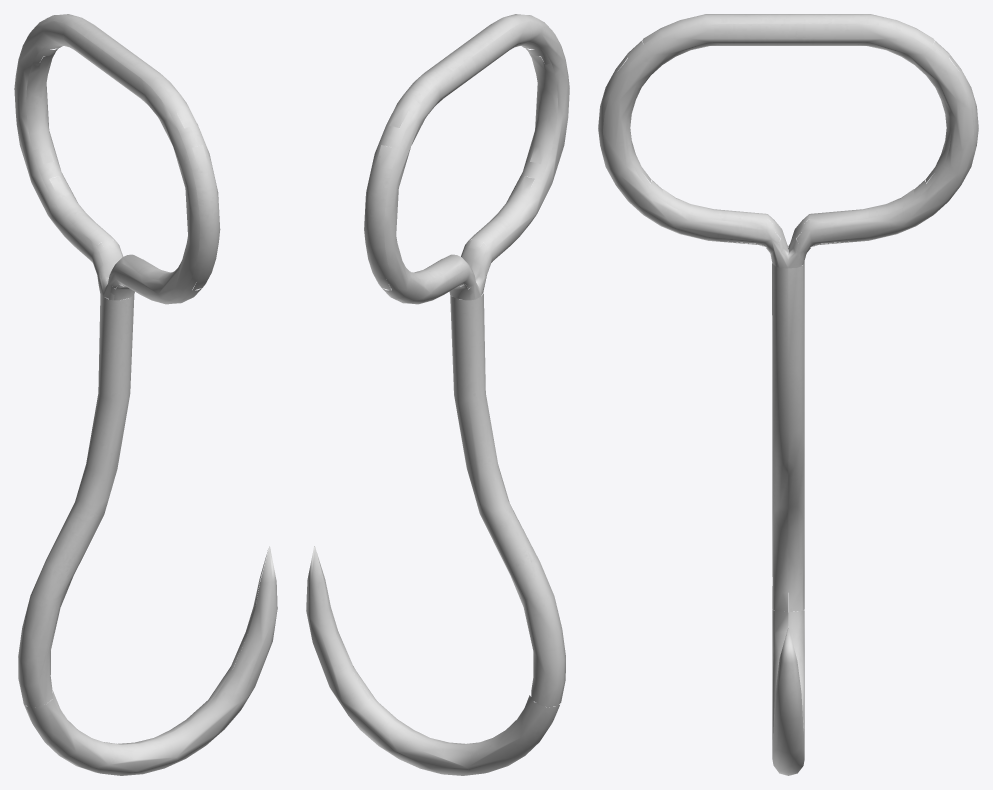
The model's file is meat_hook.glb.
The picture shows the model from 3 angles, left to right: view 1: azimuth 30°, elevation 25°; view 2: azimuth 150°, elevation 25°; view 3: azimuth 270°, elevation 25°; orthographic projection.
Visible parts, largest first — view 1: MeatHook5_MeatHook5_0; view 2: MeatHook5_MeatHook5_0; view 3: MeatHook5_MeatHook5_0.
Boxes of the visible parts, box(x1,y1,x2,y2) form: MeatHook5_MeatHook5_0: box(14, 14, 277, 775); MeatHook5_MeatHook5_0: box(306, 14, 569, 775); MeatHook5_MeatHook5_0: box(598, 14, 978, 775).
Size of the model in its own units: 0.0767 by 0.2096 by 0.0987.
Materials: 1 (1 with a texture image).
